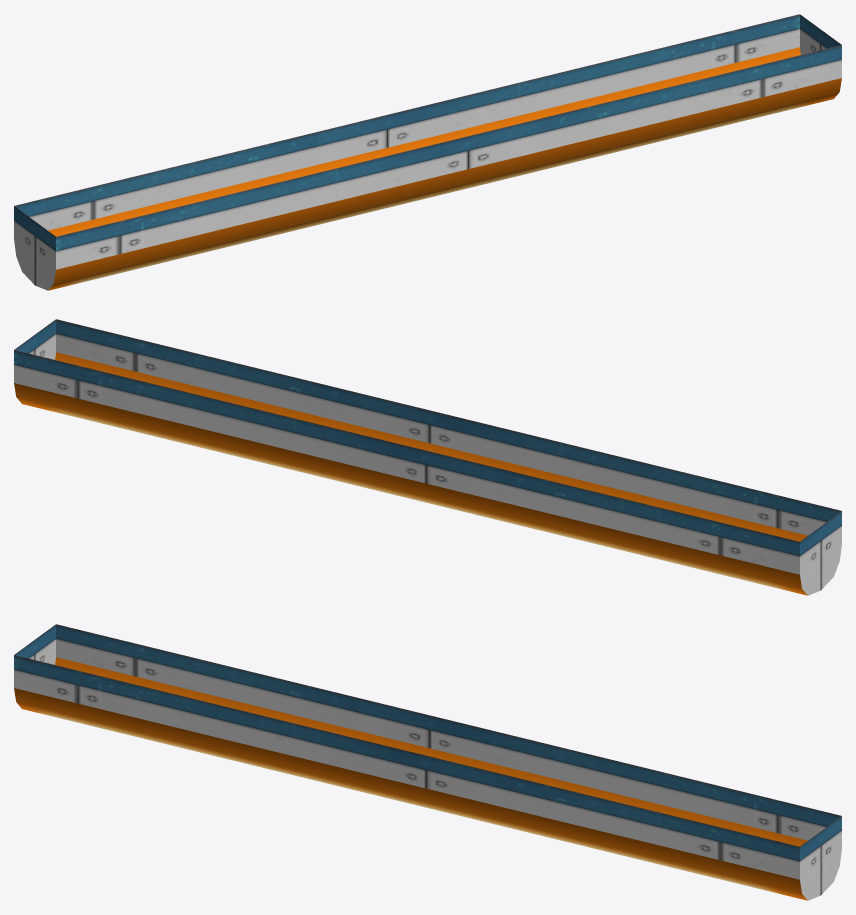
File: Neon_Up_04.FBX
3 renders of one model, top to bottom at view 1: azimuth 30°, elevation 25°; view 2: azimuth 150°, elevation 25°; view 3: azimuth 330°, elevation 25°, orthographic.
Parts seen in each view (by area): view 1: Neon_Up_04, Neon; view 2: Neon_Up_04, Neon; view 3: Neon_Up_04, Neon.
Boxes of the visible parts, left/top/right/bottom form: Neon_Up_04: left=14, top=14, right=841, bottom=290; Neon: left=48, top=47, right=841, bottom=290; Neon_Up_04: left=14, top=319, right=841, bottom=595; Neon: left=14, top=352, right=807, bottom=595; Neon_Up_04: left=14, top=624, right=841, bottom=900; Neon: left=14, top=657, right=807, bottom=900.
Size of the model in its own units: 99.98 by 7.81 by 9.28.
